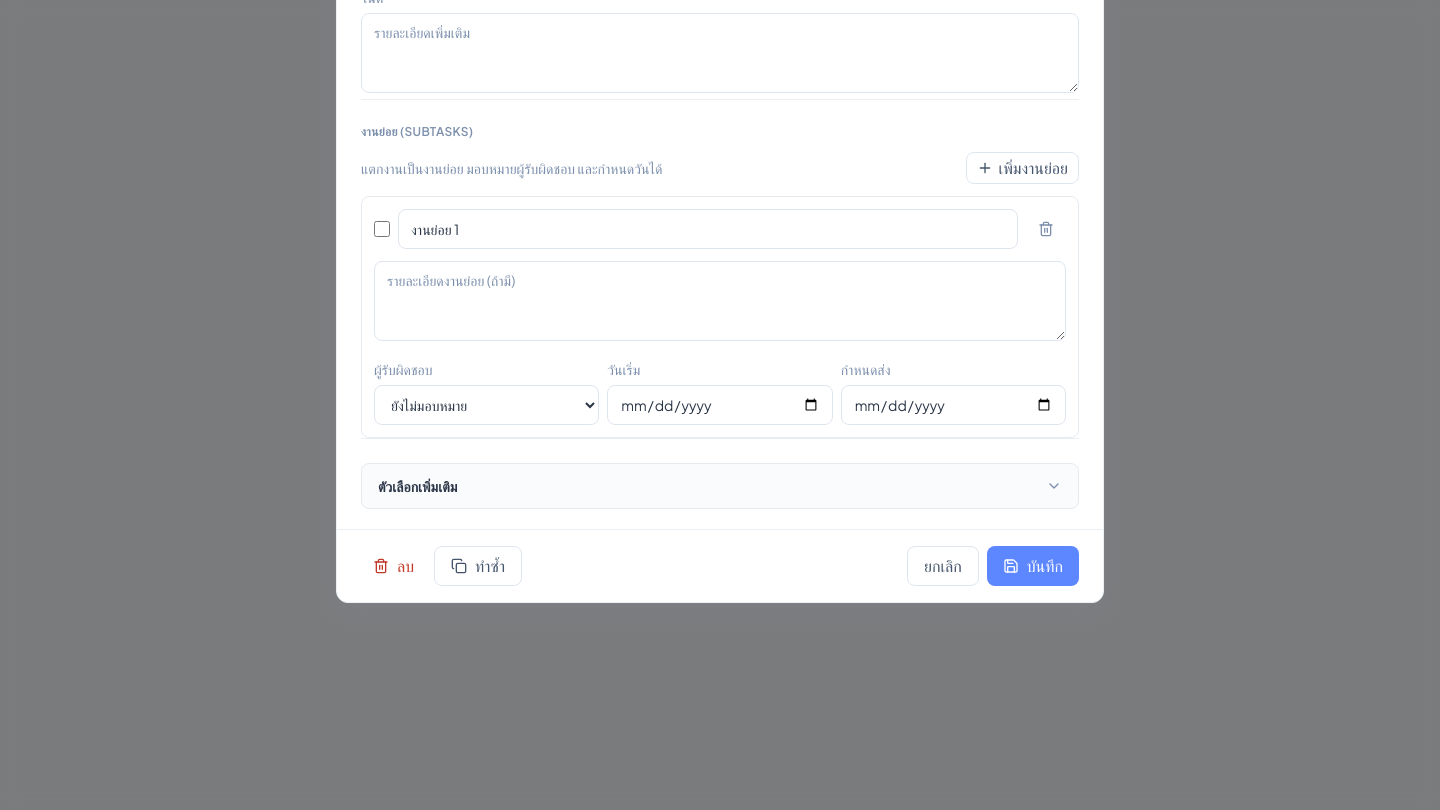
Test case: ItemModal — subtask 'เพิ่มรายชื่อใหม่' inline add-assignee flow › confirming a name that already exists in the option list does not add a duplicate to members
(page scrolled)
Select "＋ เพิ่มรายชื่อใหม่…" in the dropdown named "ผู้รับผิดชอบงานย่อย": [487, 405] box [374, 385, 599, 425]
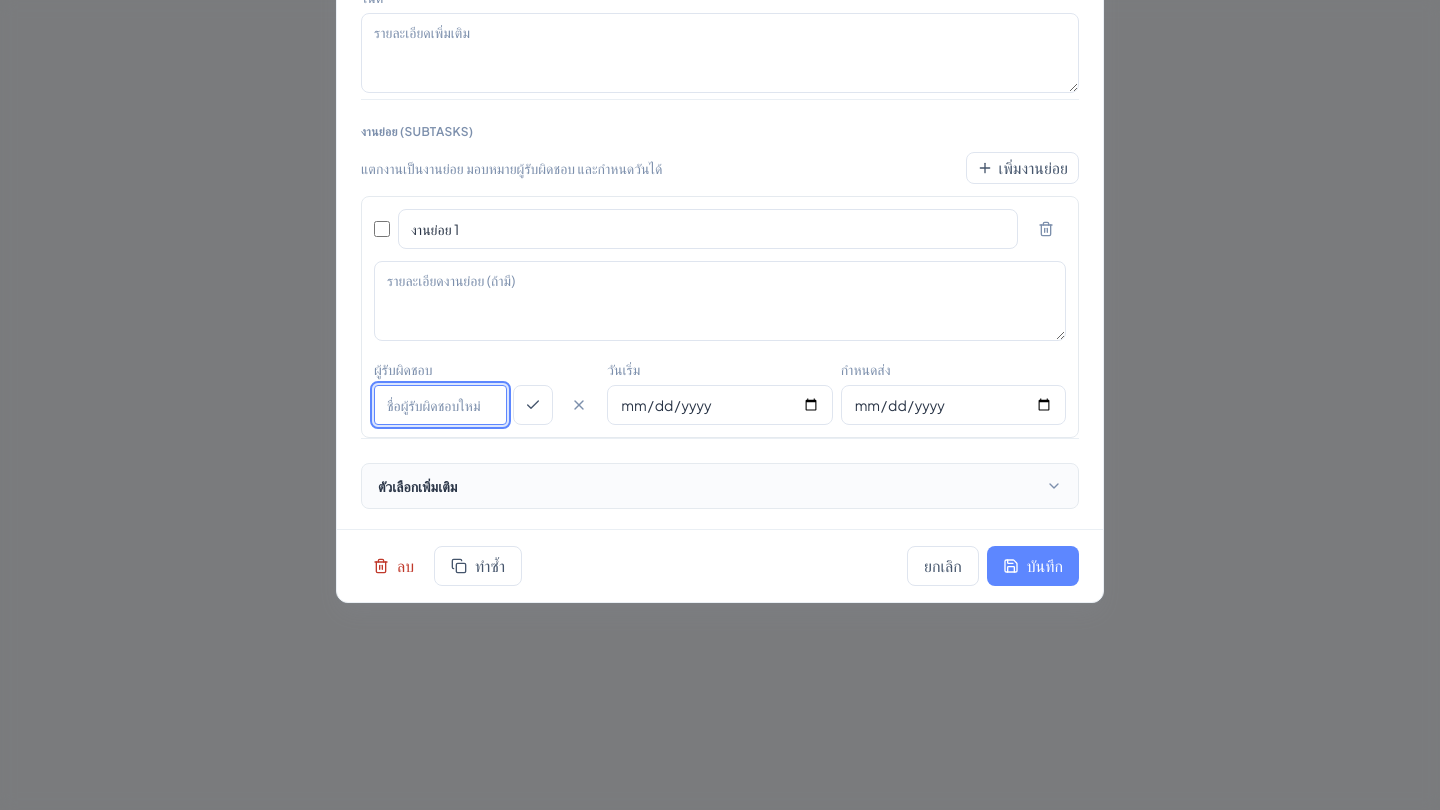
In the field named "ชื่อผู้รับผิดชอบใหม่": [441, 405] box [374, 385, 507, 425], type "พี่ก้อย"
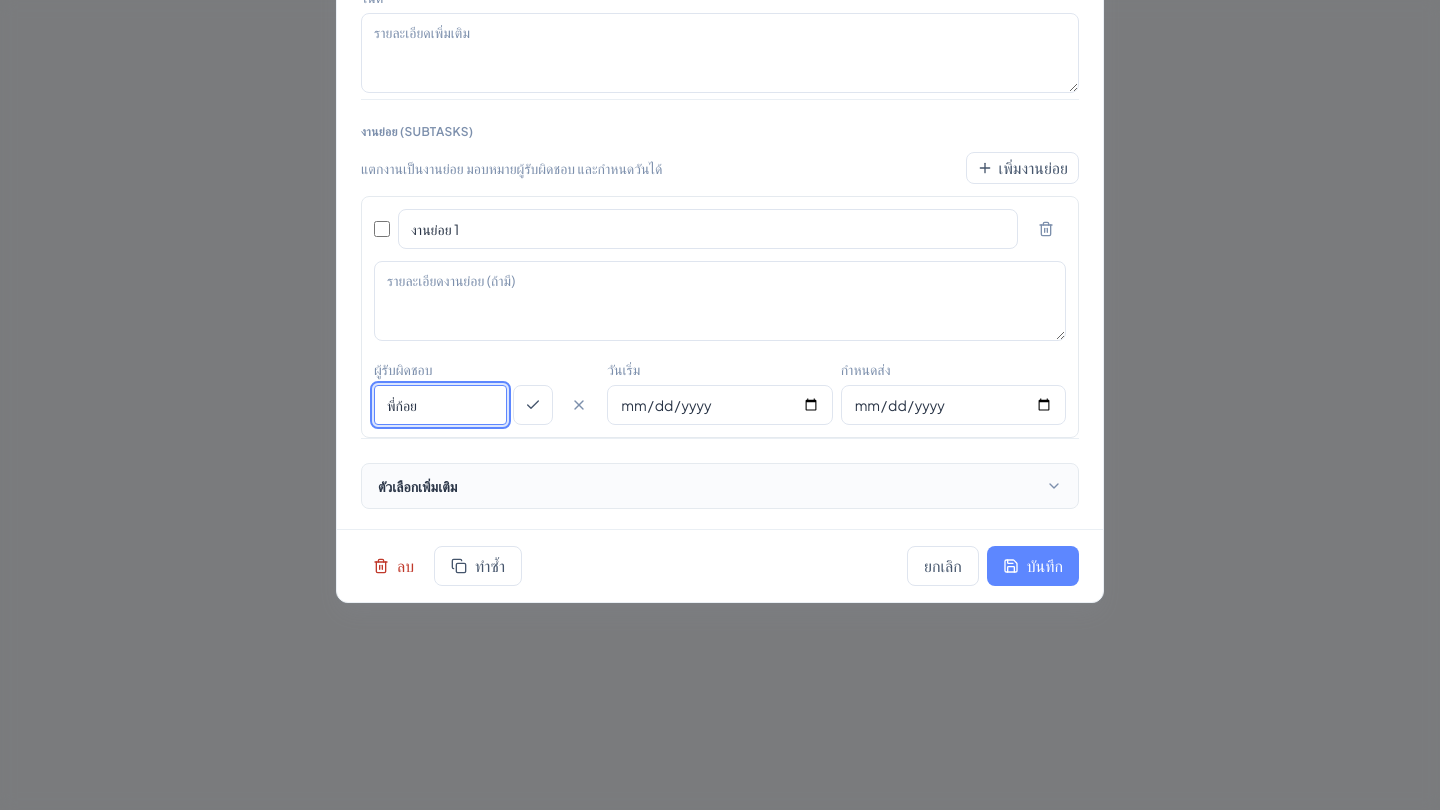
Click the button named "ยืนยันชื่อผู้รับผิดชอบใหม่": [533, 405] box [513, 385, 553, 425]
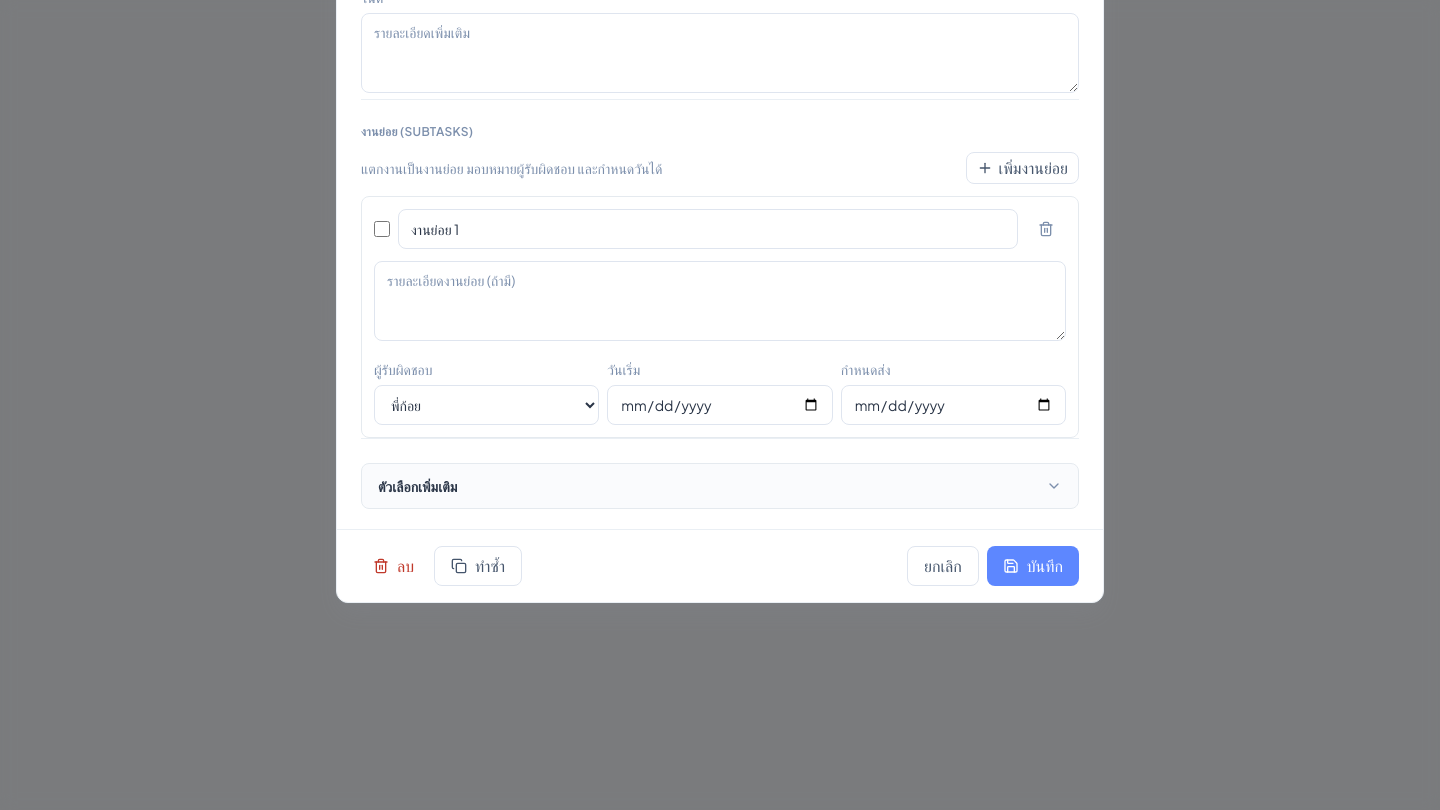
Expected: the dropdown named "ผู้รับผิดชอบงานย่อย" shows "พี่ก้อย", [374, 385, 599, 425]
